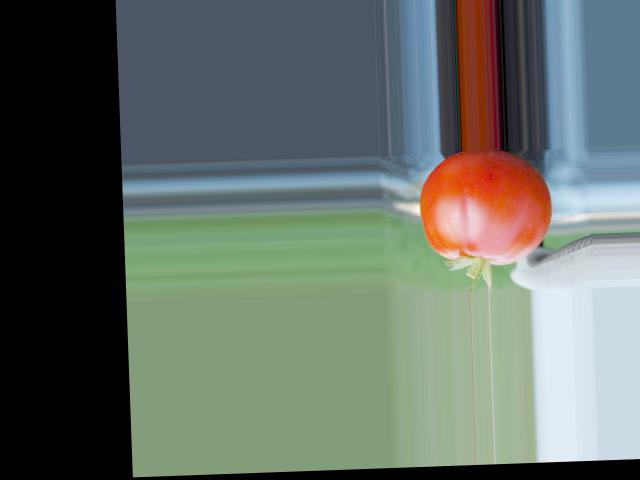tomato: (417, 147, 553, 267)
